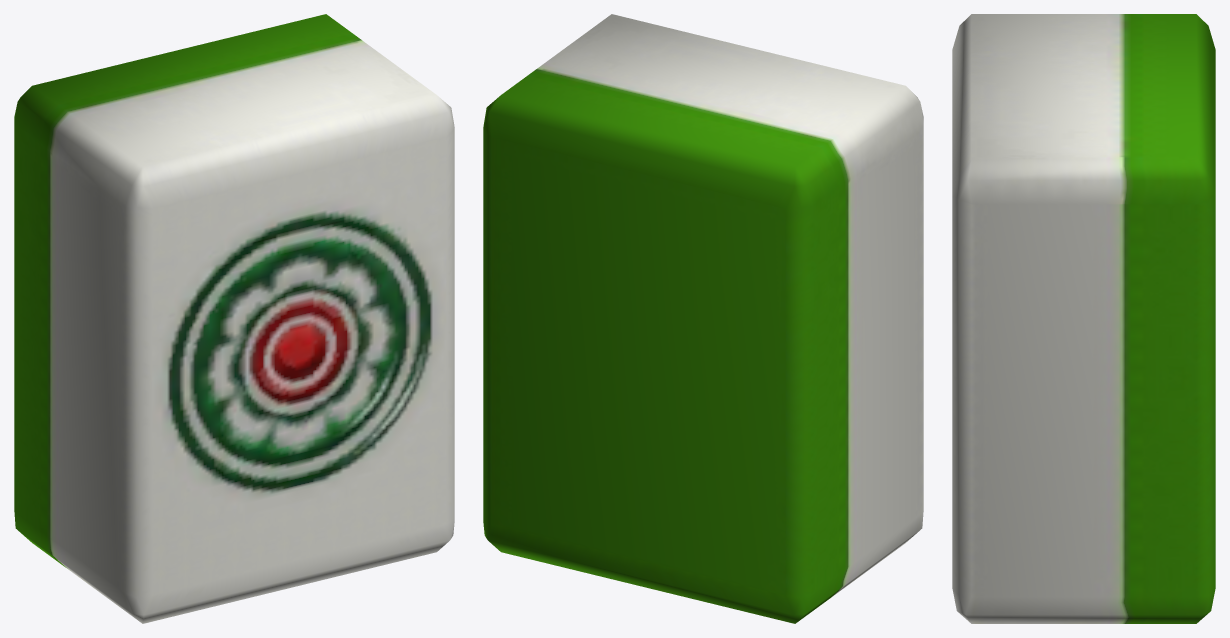
File: mj_tong1.FBX
The picture shows the model from 3 angles, left to right: view 1: azimuth 30°, elevation 25°; view 2: azimuth 150°, elevation 25°; view 3: azimuth 270°, elevation 25°; orthographic projection.
Visible parts, largest first — view 1: default104; view 2: default104; view 3: default104.
Boxes of the visible parts, x1=… form: default104: x1=14, y1=14, x2=454, y2=623; default104: x1=483, y1=14, x2=923, y2=623; default104: x1=952, y1=14, x2=1215, y2=623.
Size of the model in its own units: 0.0339 by 0.045 by 0.0232.
Materials: 1 (1 with a texture image).
